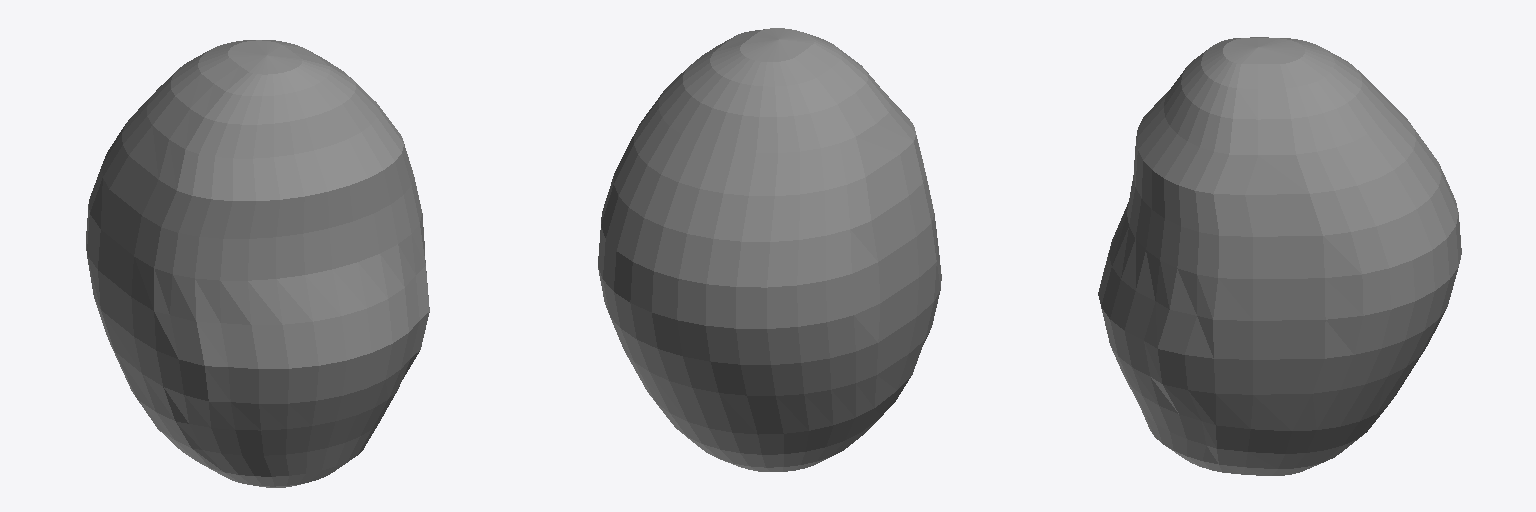
File: mars_moon_two.obj
3 views of the same model, side by side, from view 1: azimuth 30°, elevation 25°; view 2: azimuth 150°, elevation 25°; view 3: azimuth 270°, elevation 25° (orthographic).
Parts seen in each view (by area): view 1: Deimos_Mesh.001; view 2: Deimos_Mesh.001; view 3: Deimos_Mesh.001.
Part boxes in pixels (x1,y1,x2,y2): Deimos_Mesh.001: (86,40,429,487); Deimos_Mesh.001: (598,28,941,471); Deimos_Mesh.001: (1098,37,1461,475).
Size of the model in its own units: 0.3073 by 0.4439 by 0.3508.